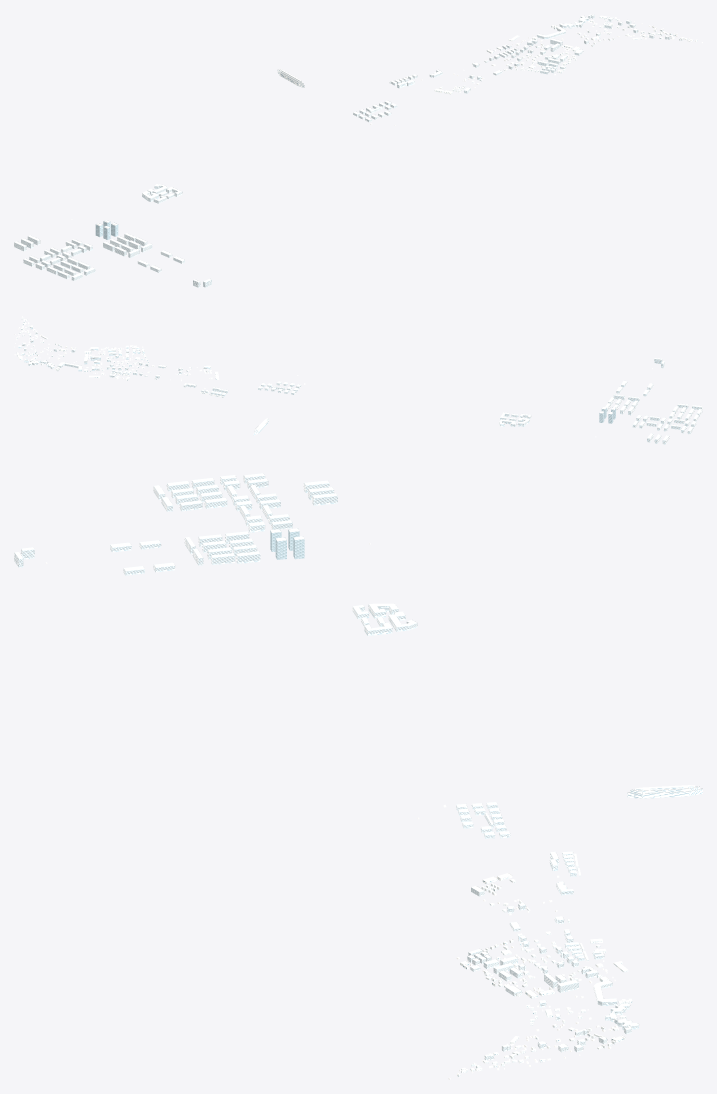
The model's file is district-seabreeze.glb.
The picture shows the model from 3 angles, top to bottom: view 1: azimuth 30°, elevation 25°; view 2: azimuth 150°, elevation 25°; view 3: azimuth 270°, elevation 25°; orthographic projection. The views are drawn at different scales.
Parts seen in each view (by area): view 1: seabreeze; view 2: seabreeze; view 3: seabreeze.
Boxes of the visible parts, box(x1,y1,x2,y2) form: seabreeze: box(14, 14, 702, 287); seabreeze: box(14, 316, 702, 444); seabreeze: box(14, 473, 702, 1079).
Bounding box in the file's own units: 5520 × 95 × 2676.
8 materials, 4 textured.
